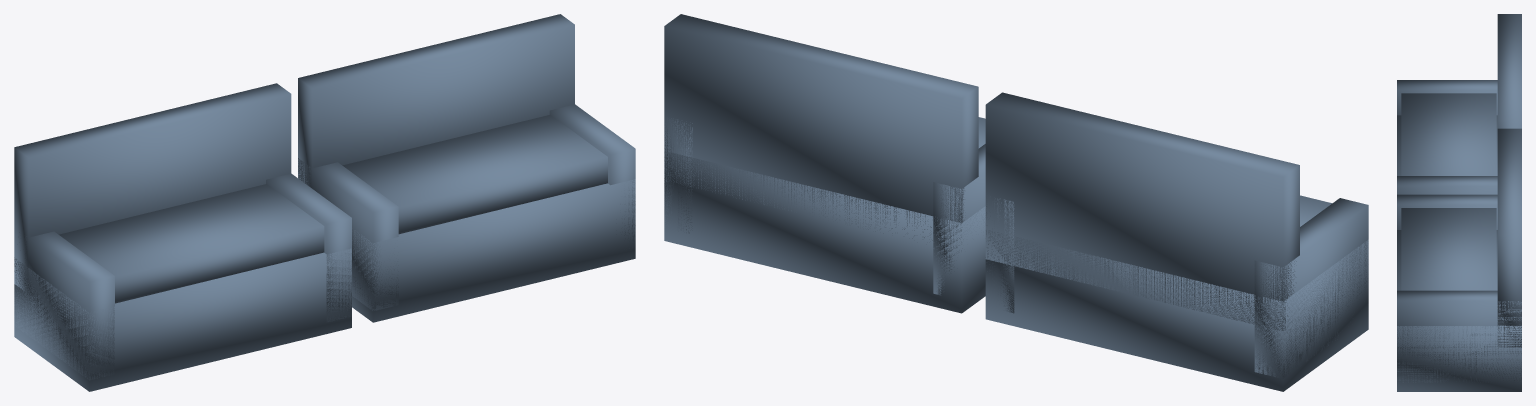
The model's file is loveseat__cluster.glb.
3 renders of one model, left to right at view 1: azimuth 30°, elevation 25°; view 2: azimuth 150°, elevation 25°; view 3: azimuth 270°, elevation 25°, orthographic. The views are drawn at different scales.
Parts seen in each view (by area): view 1: world; view 2: world; view 3: world.
Boxes of the visible parts, left/top/right/bottom form: world: left=14, top=14, right=635, bottom=391; world: left=664, top=14, right=1368, bottom=391; world: left=1397, top=14, right=1521, bottom=391.
Bounding box in the file's own units: 3.02 × 1.03 × 0.72.
